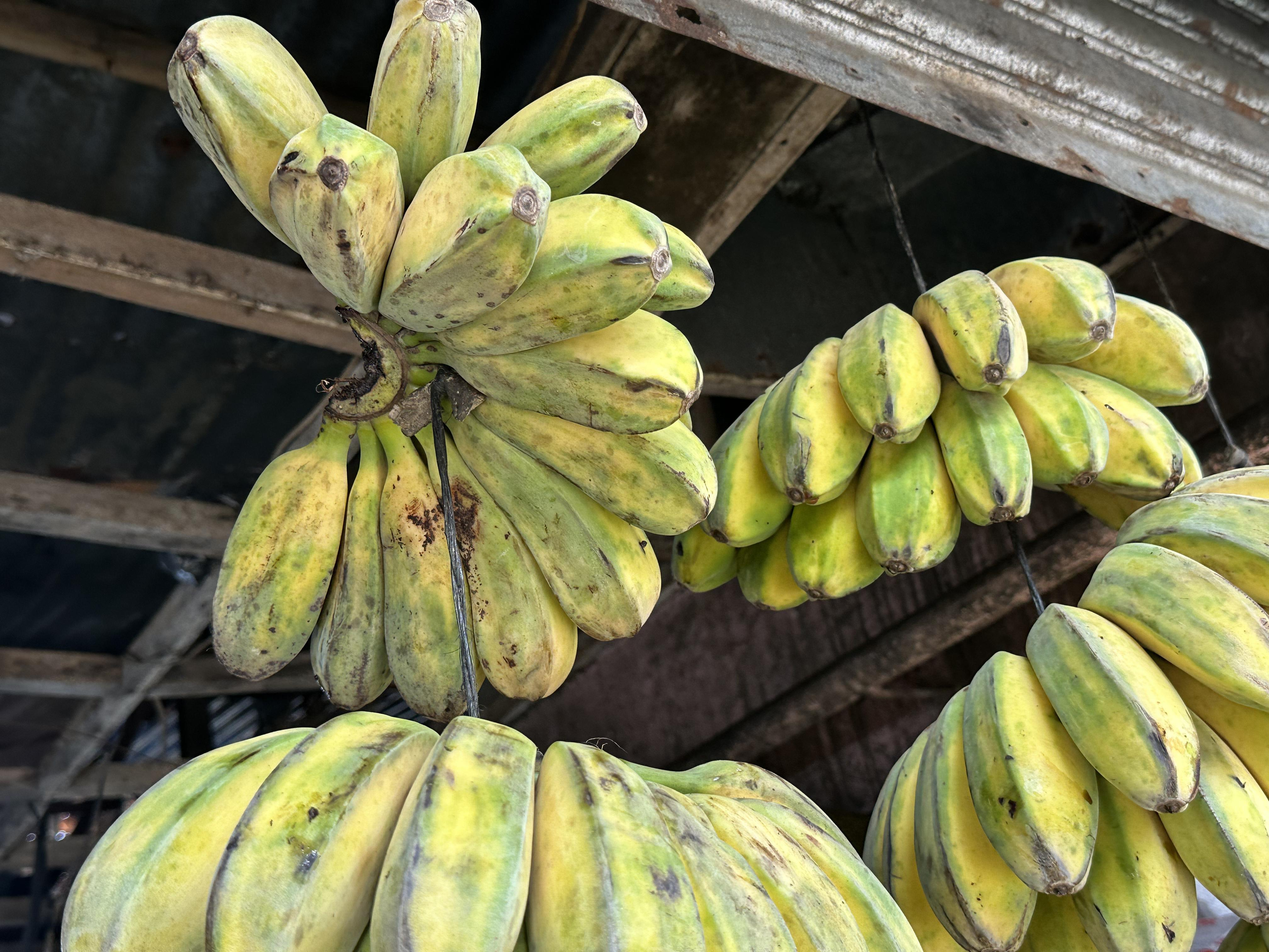underripe: (165, 0, 719, 727), (63, 711, 924, 952), (860, 466, 1269, 952), (671, 256, 1210, 614)
